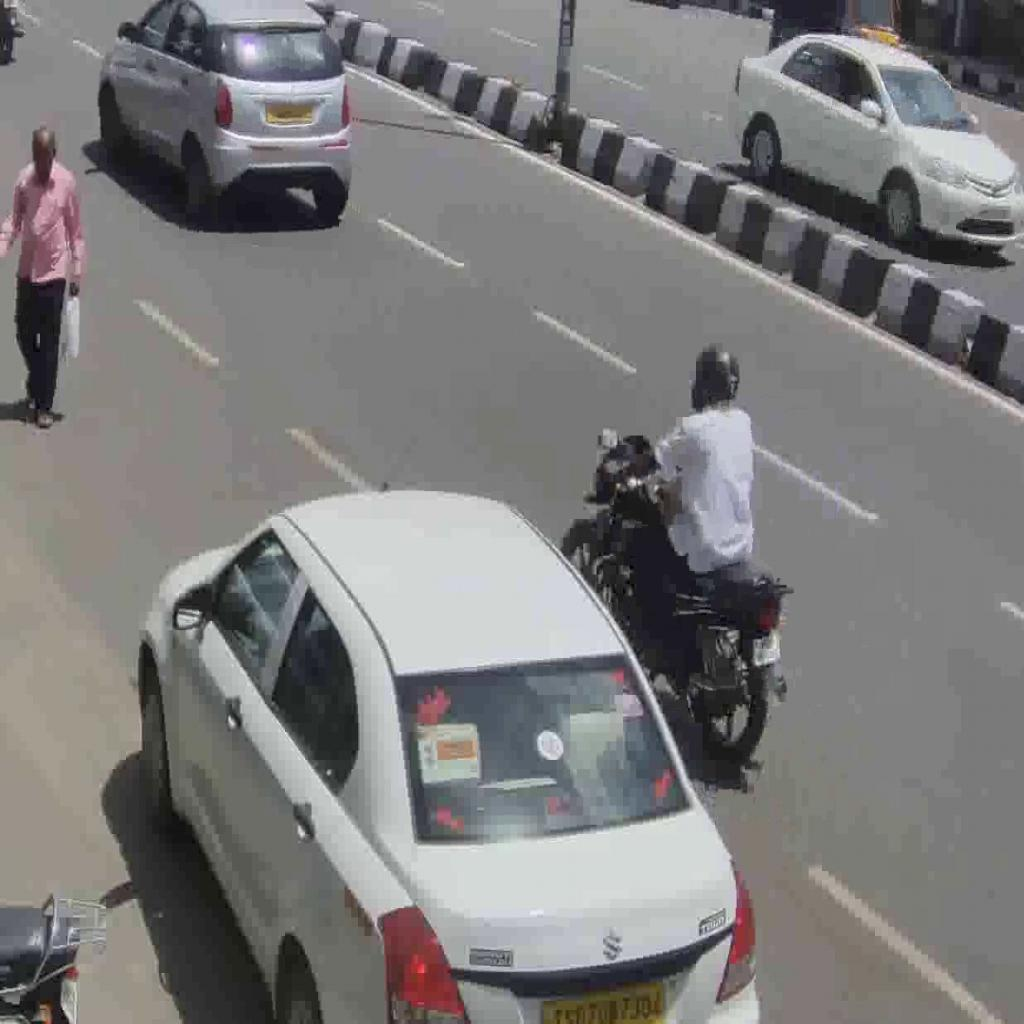bike: (562, 433, 789, 766)
helmet: (688, 342, 741, 418)
lisc: (753, 631, 781, 666)
rider: (623, 344, 755, 660)
